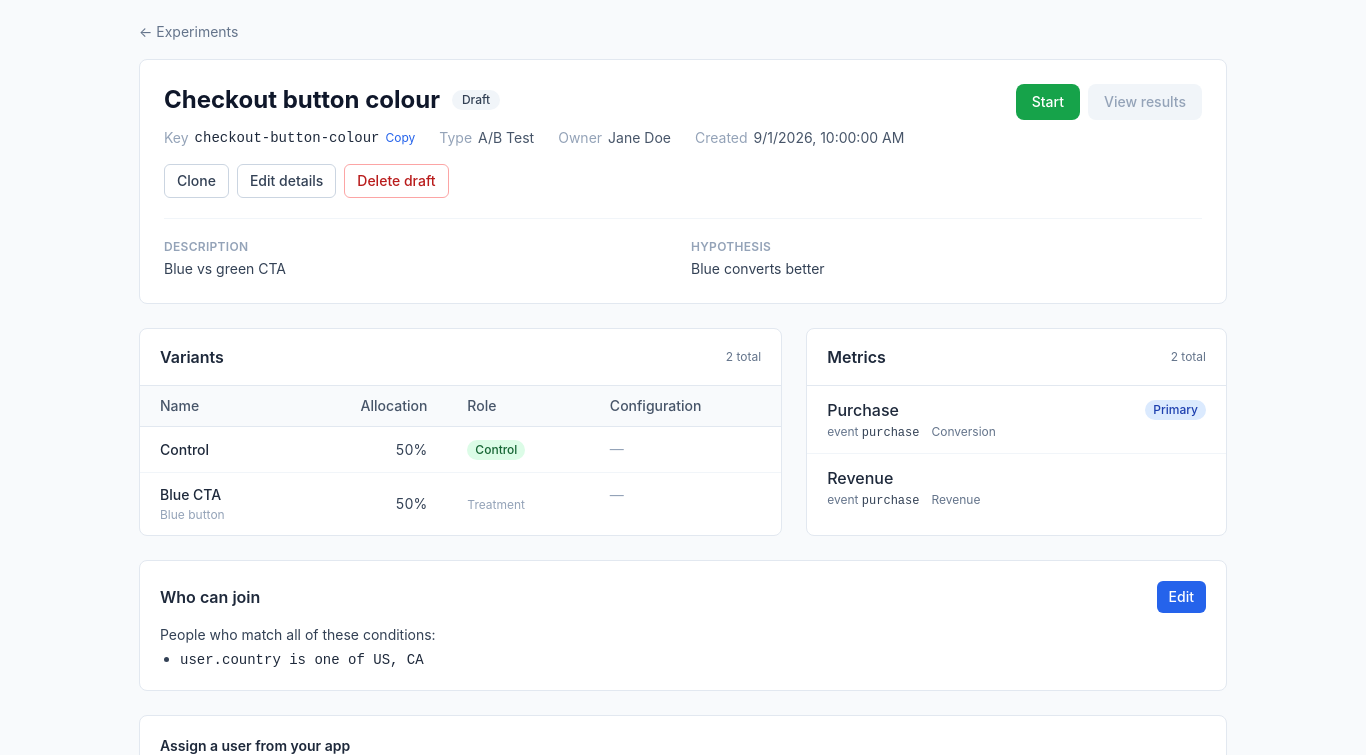
Test: ExperimentDetailPage — the owner's name (#921) › keeps the name after the targeting rules are saved
Step 1. Click the button "Edit" → coordinates (1181, 597), box x1=1157 y1=581 x2=1206 y2=613
(page scrolled)
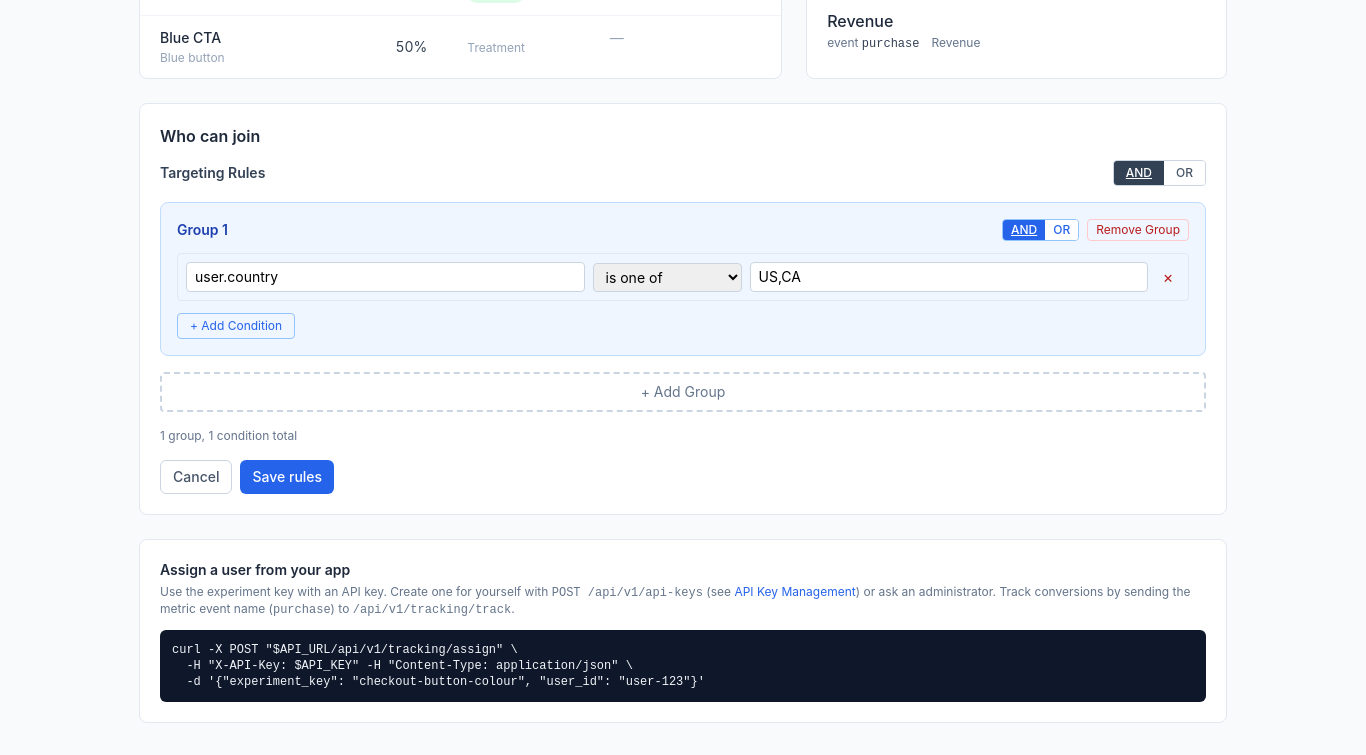
Step 2. Click the button "Save rules" → coordinates (287, 477), box x1=240 y1=460 x2=334 y2=494
(page scrolled)
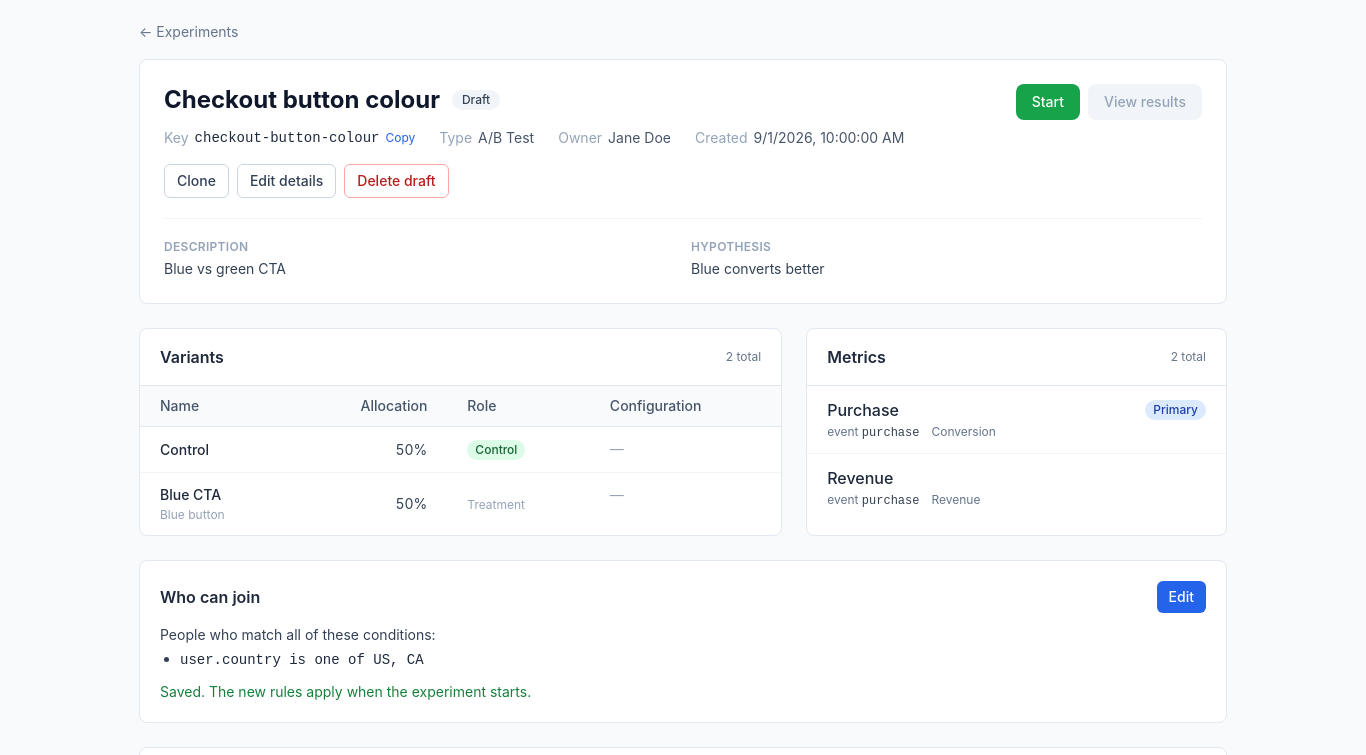
expect the text with test id "experiment-owner" reads "Jane Doe": met, box x1=608 y1=129 x2=671 y2=146
expect the text "Saved. The new rules apply when the experiment starts." is shown: met, box x1=160 y1=683 x2=531 y2=700
